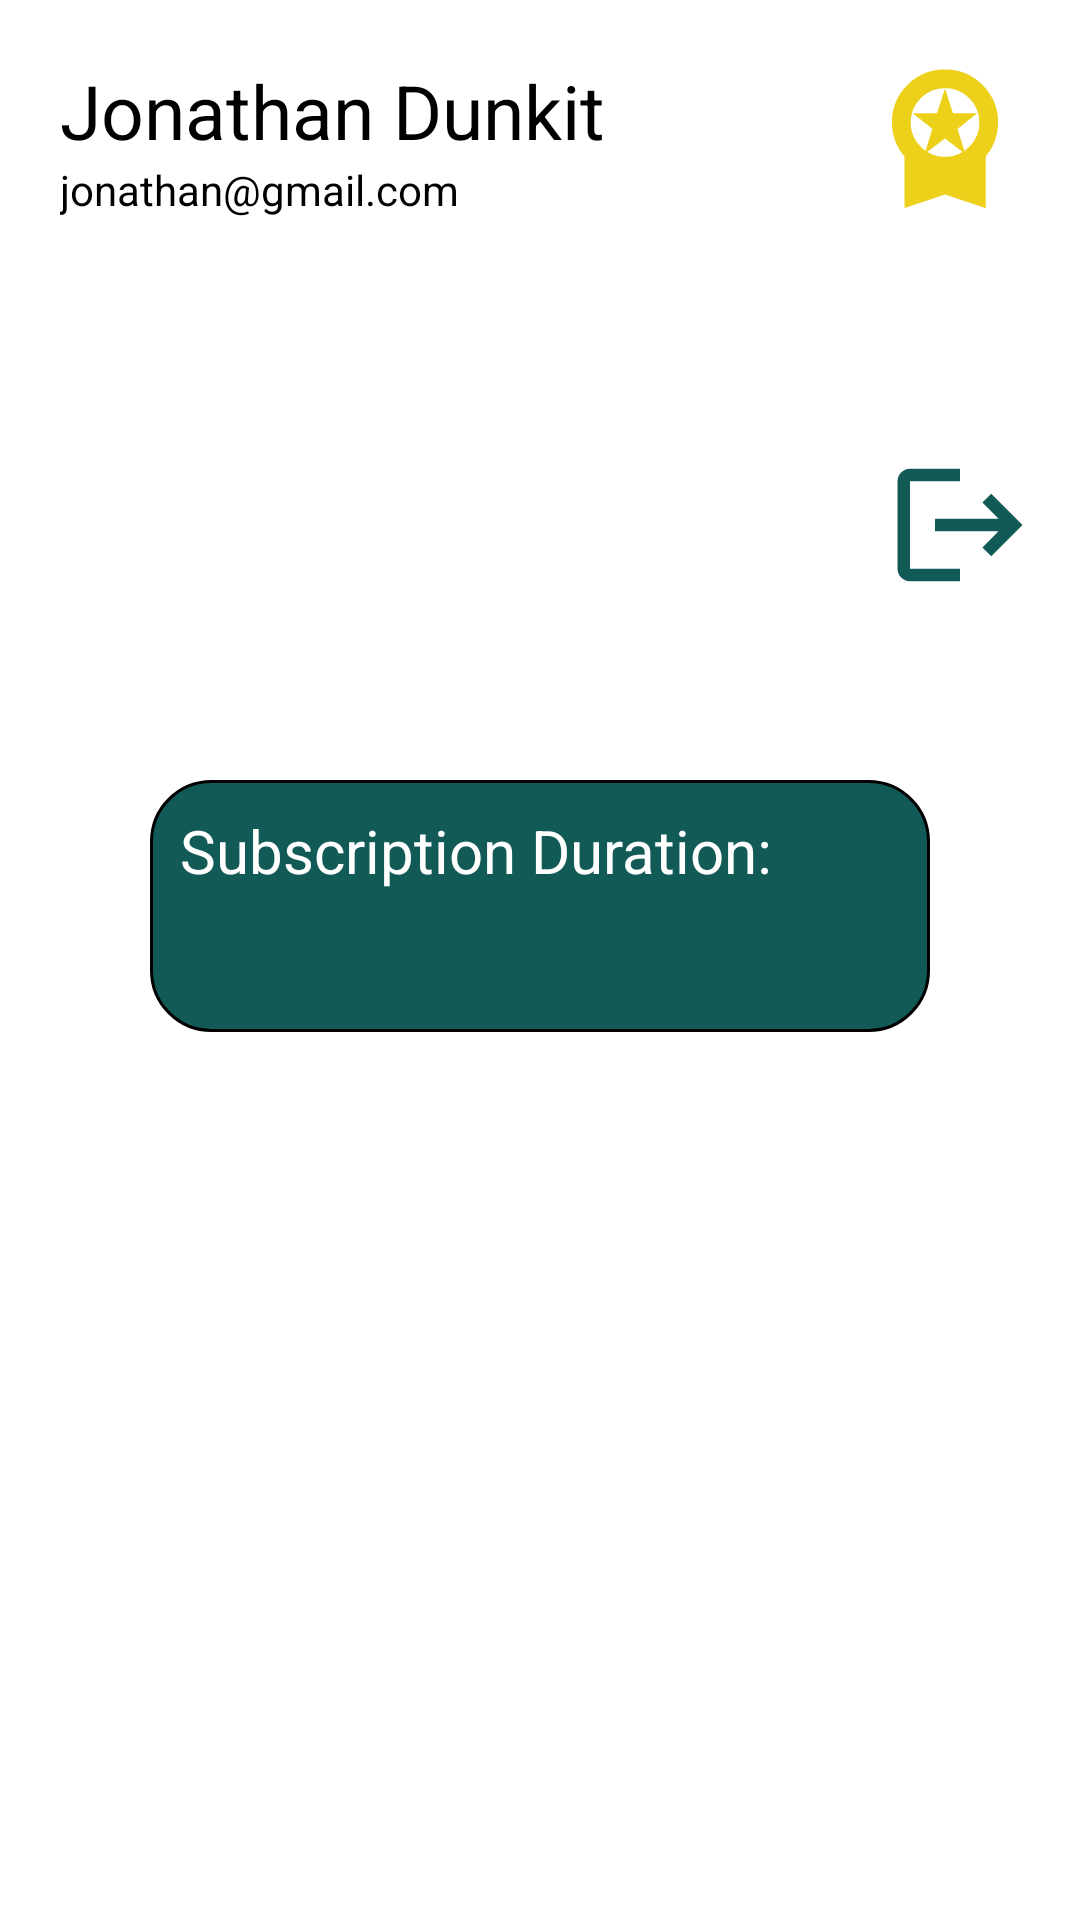

Screen size 1080*1920. Icon name, then its box in pixels as (x1, y1, x2, y2):
subscription: (892, 69, 998, 208)
